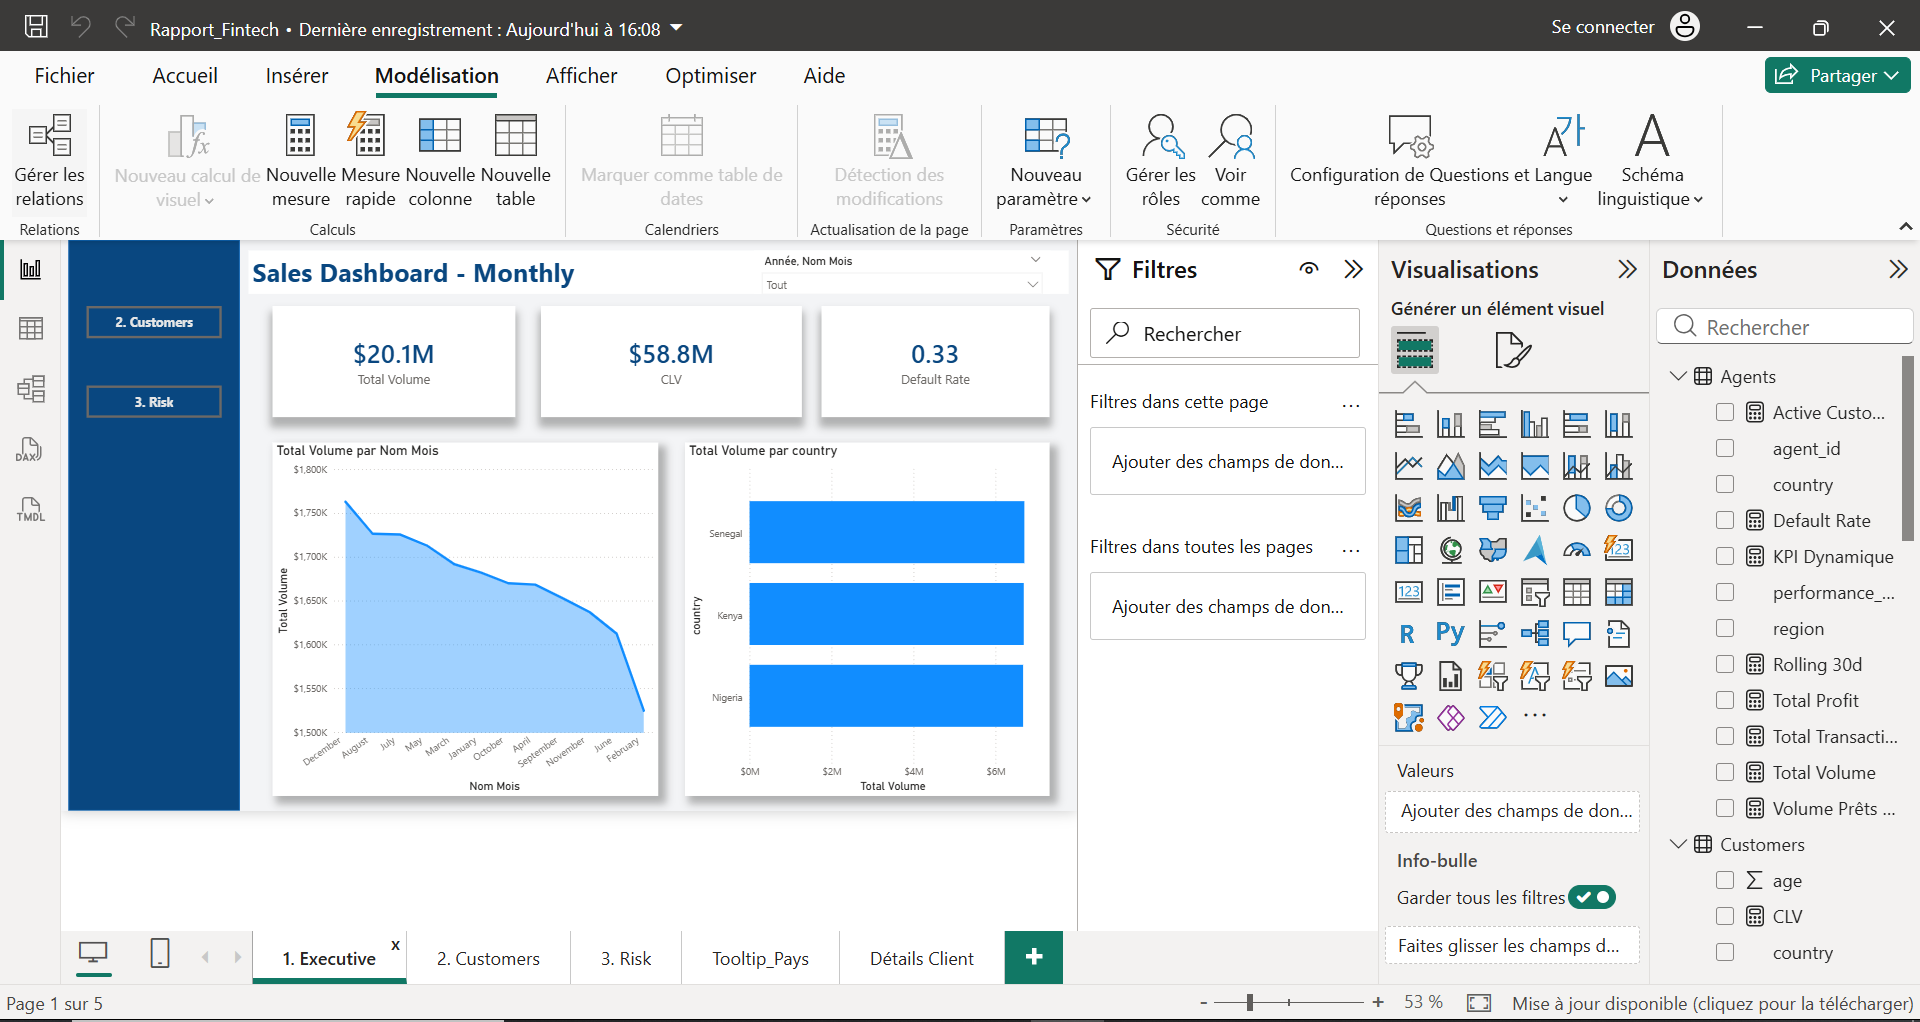

The page's visual inventory and layout, read from the dashboard file:
{"tool":"powerbi","page":{"name":"1. Executive","canvas":[1280,720],"ordinal":0},"visuals":[{"type":"shape","box":[9.4,0,215.7,719],"z":0},{"type":"actionButton","box":[31.3,82.8,170.4,40.6],"z":1000},{"type":"actionButton","box":[31.3,182.9,170.4,40.6],"z":2000},{"type":"textbox","box":[236,12.5,1033.1,54.7],"z":3000},{"type":"slicer","fields":{"Values":["DimDate.Année","DimDate.Nom Mois"]},"box":[872.1,12.5,373.6,54.7],"z":4000},{"type":"cardVisual","fields":{"Data":["Agents.Default Rate"]},"box":[958.1,83.2,287.2,139.8],"z":5000},{"type":"cardVisual","fields":{"Data":["Agents.Total Volume"]},"box":[266.5,83.2,306.1,139.8],"z":6000},{"type":"cardVisual","fields":{"Data":["Customers.CLV"]},"box":[604.7,83.2,328.8,139.8],"z":7000},{"type":"areaChart","fields":{"Category":["DimDate.Nom Mois"],"Y":["Agents.Total Volume"]},"box":[267.3,254.8,486.1,445.5],"z":8000},{"type":"barChart","fields":{"Category":["Transactions.country"],"Y":["Agents.Total Volume"]},"box":[786.2,254.8,459.5,445.5],"z":9000}]}

Visuals, with their boxes on the page's 1280x720 design canvas (x1, y1, x2, y2). These are canvas units, not pixel positions in the 1920x1022 screenshot, which may show the page scaled, cropped or inside an application window:
shape: (9,0,225,719)
actionButton: (31,83,202,123)
actionButton: (31,183,202,224)
textbox: (236,12,1269,67)
slicer - DimDate.Année x DimDate.Nom Mois: (872,12,1246,67)
cardVisual - Agents.Default Rate: (958,83,1245,223)
cardVisual - Agents.Total Volume: (266,83,573,223)
cardVisual - Customers.CLV: (605,83,934,223)
areaChart - DimDate.Nom Mois x Agents.Total Volume: (267,255,753,700)
barChart - Transactions.country x Agents.Total Volume: (786,255,1246,700)
